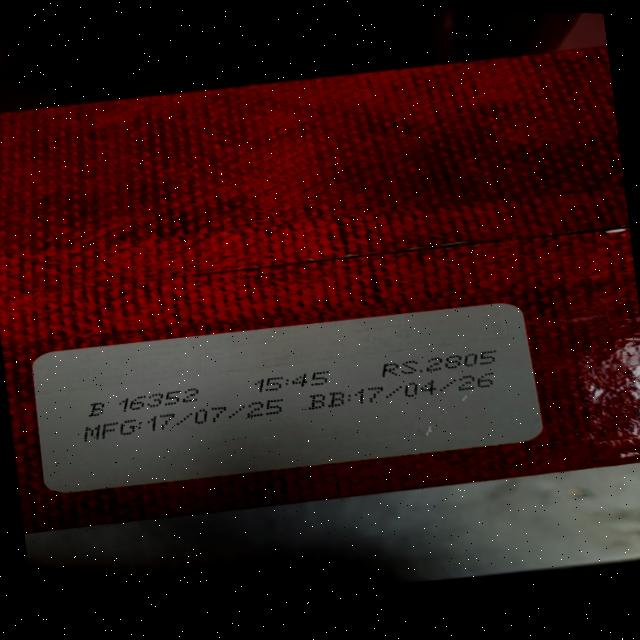BB: (309, 366, 504, 414)
Batch: (84, 386, 205, 419)
MFG: (82, 396, 284, 445)
RS: (378, 346, 502, 379)
TimeStamp: (252, 369, 332, 393)
